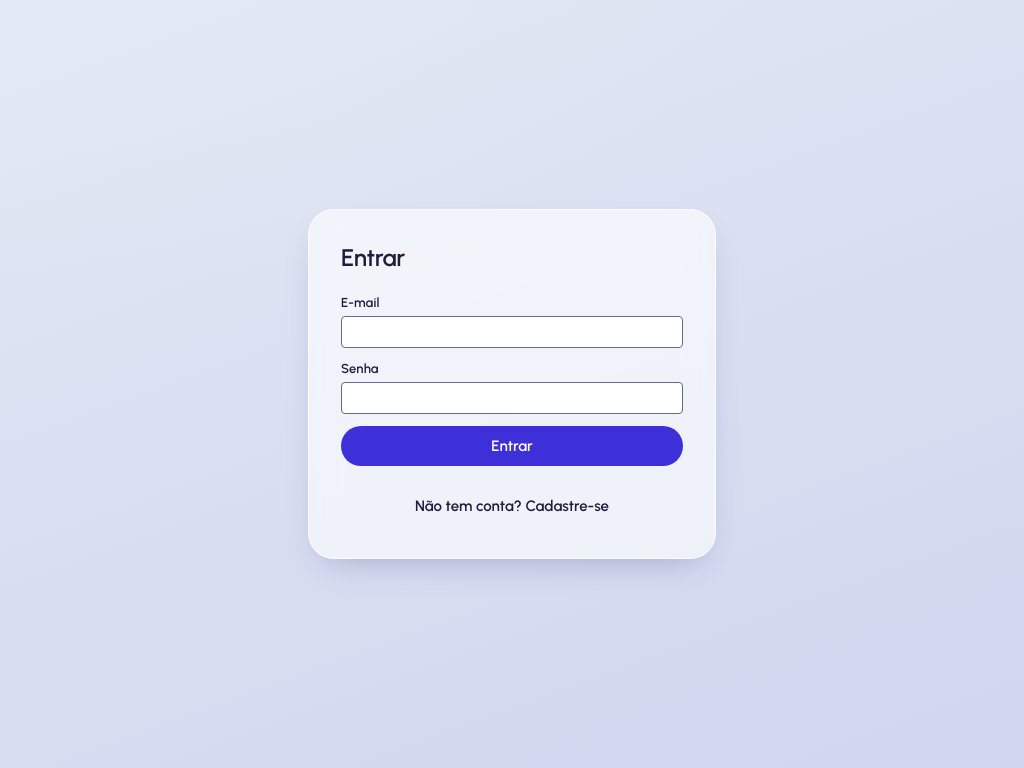
Scenario: LoginPage › erro de login aparece num alerta, sem navegar (F0.2 — mensagem genérica)
Type "a@x.com" into the field labelled "E-mail". click: (512, 332)
box: [341,316,683,348]
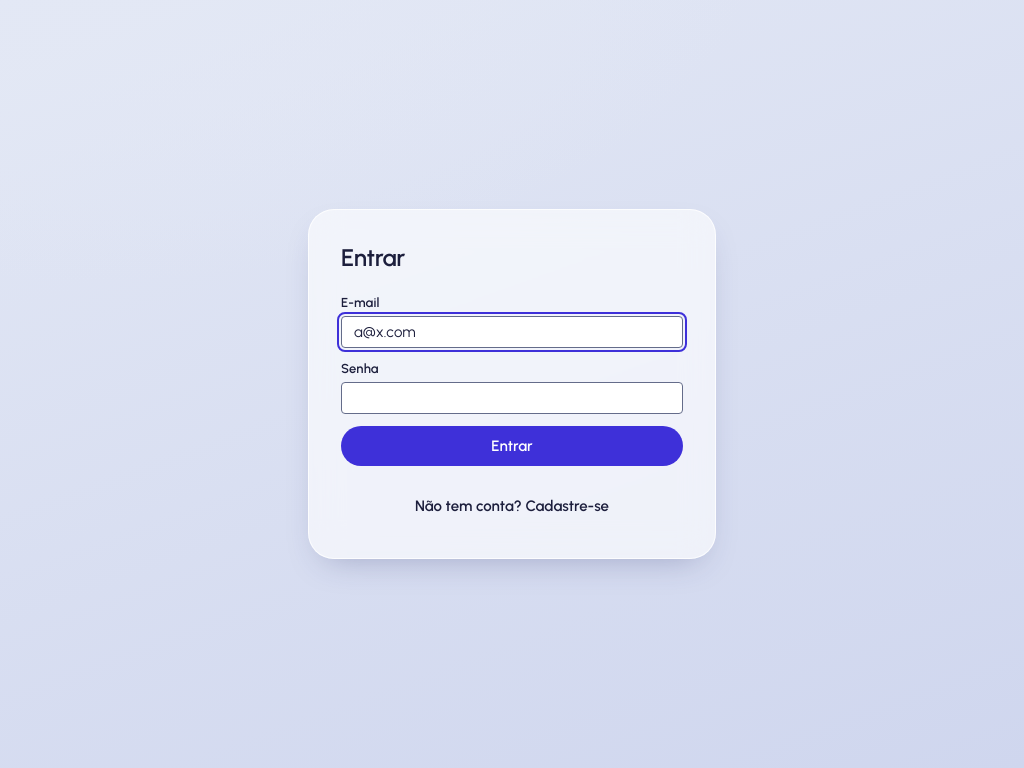
Type "errada1" into the password field labelled "Senha". click: (512, 398)
box: [341,382,683,414]
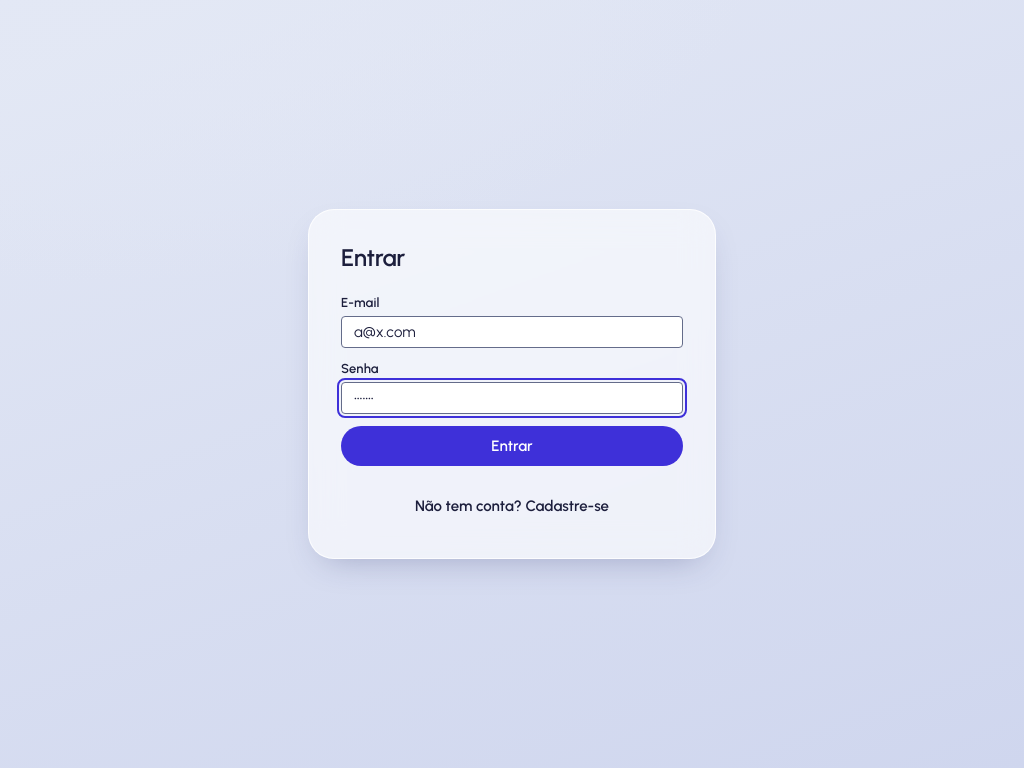
Click the button "Entrar". click: (512, 446)
box: [341,426,683,466]
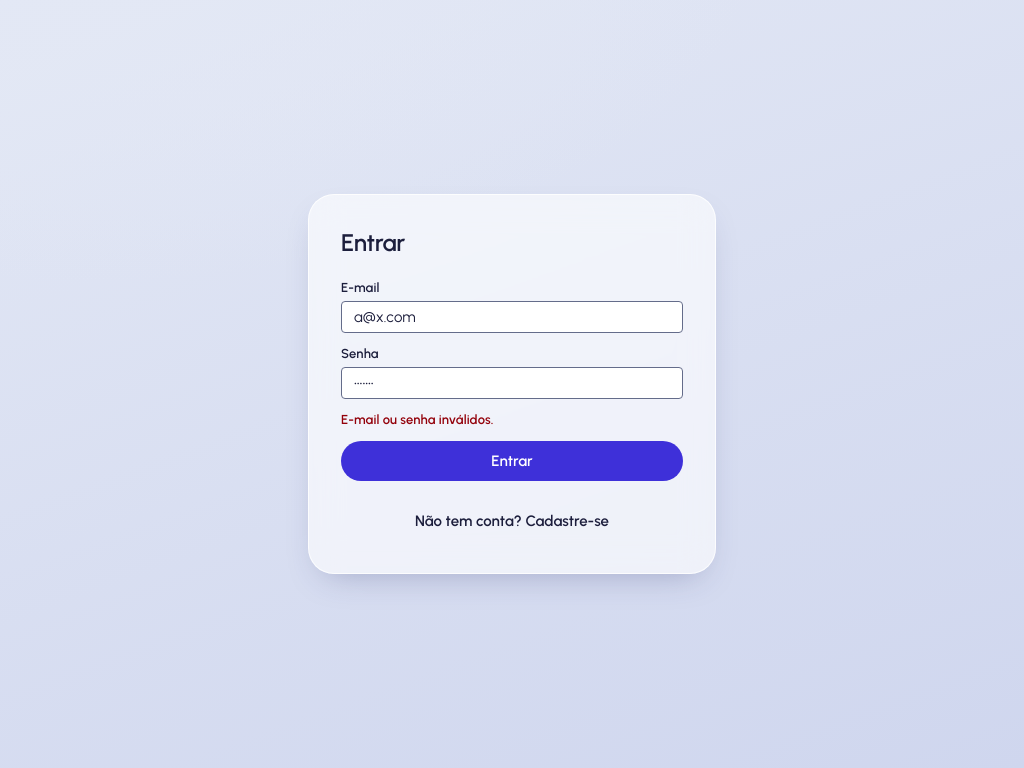
Expected: the message reads "E-mail ou senha inválidos.", [341,412,494,427]
